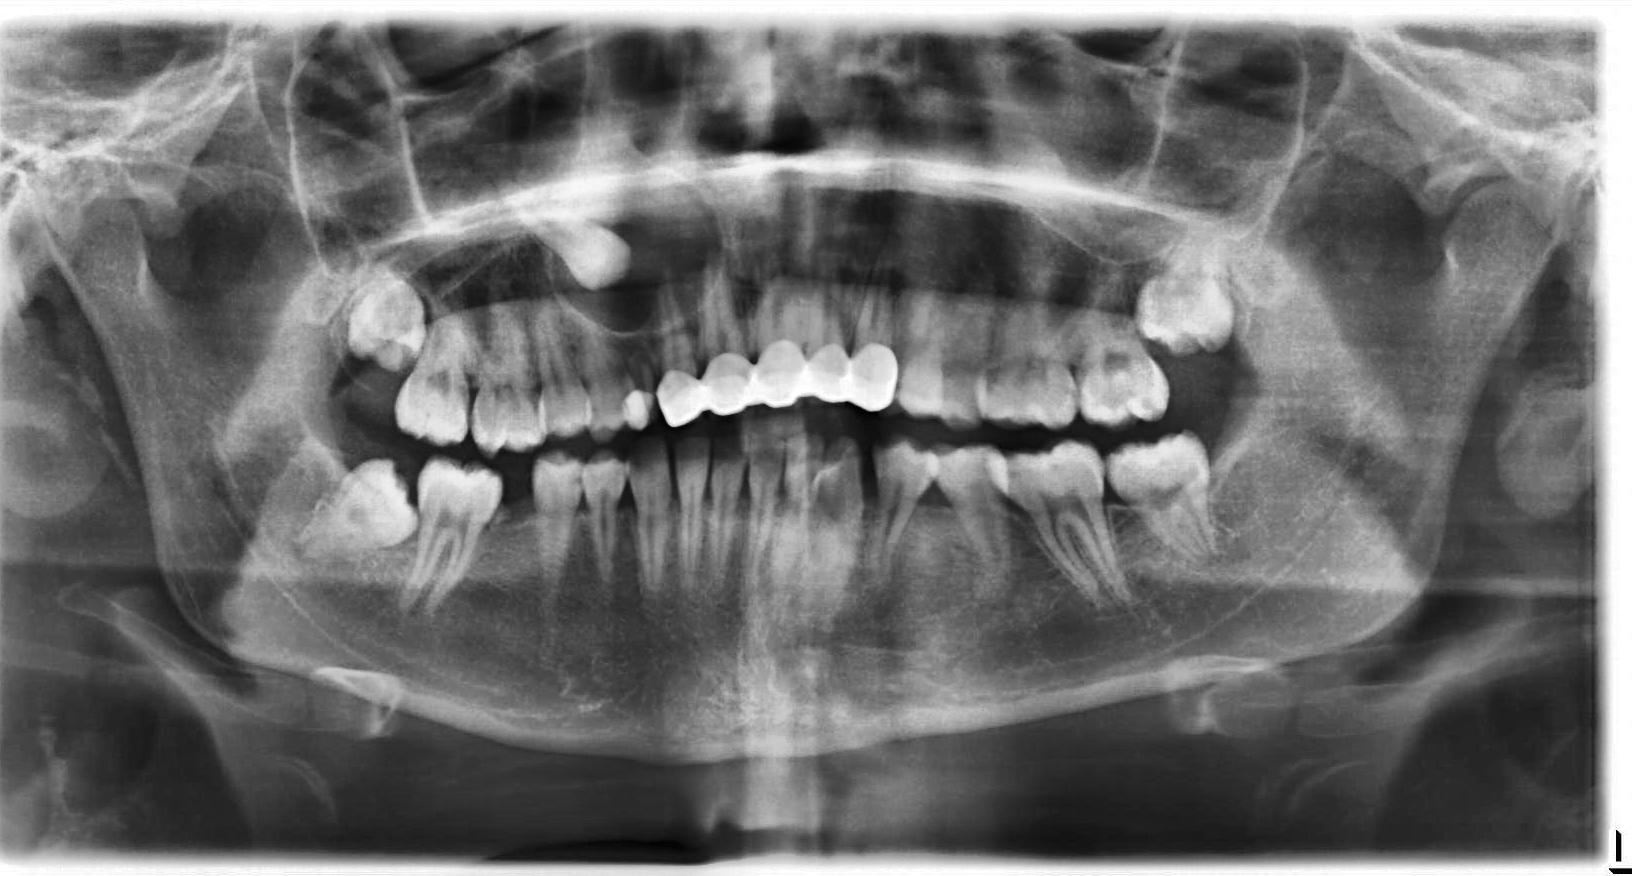dentigeroz: (547, 133, 726, 338)
